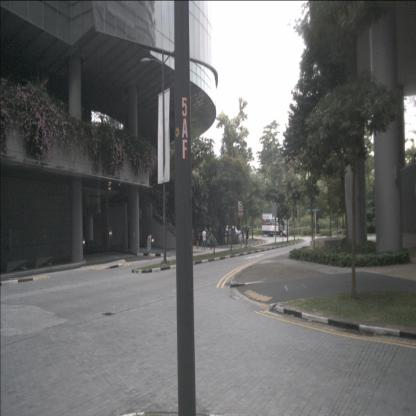human-pedestrian-adult: (147, 231, 154, 260), (209, 225, 213, 250), (202, 228, 206, 252), (245, 226, 250, 245), (196, 228, 200, 249), (228, 225, 232, 246), (224, 226, 227, 247), (205, 227, 208, 248), (233, 226, 236, 246), (242, 226, 245, 244)
vehicle-car: (225, 224, 241, 237)
vehicle-truck: (262, 213, 290, 237)
